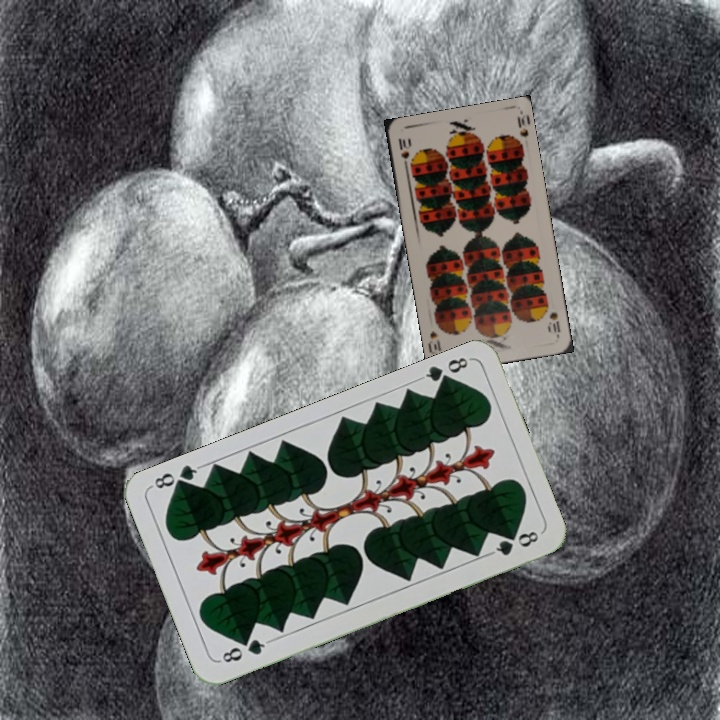G8: (416, 353, 473, 390), (215, 635, 272, 666)
S10: (394, 134, 412, 172), (544, 308, 563, 338)
